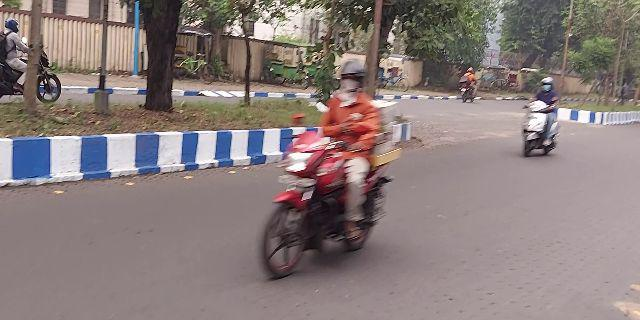Motorbike: (245, 54, 401, 272), (519, 77, 559, 157)
